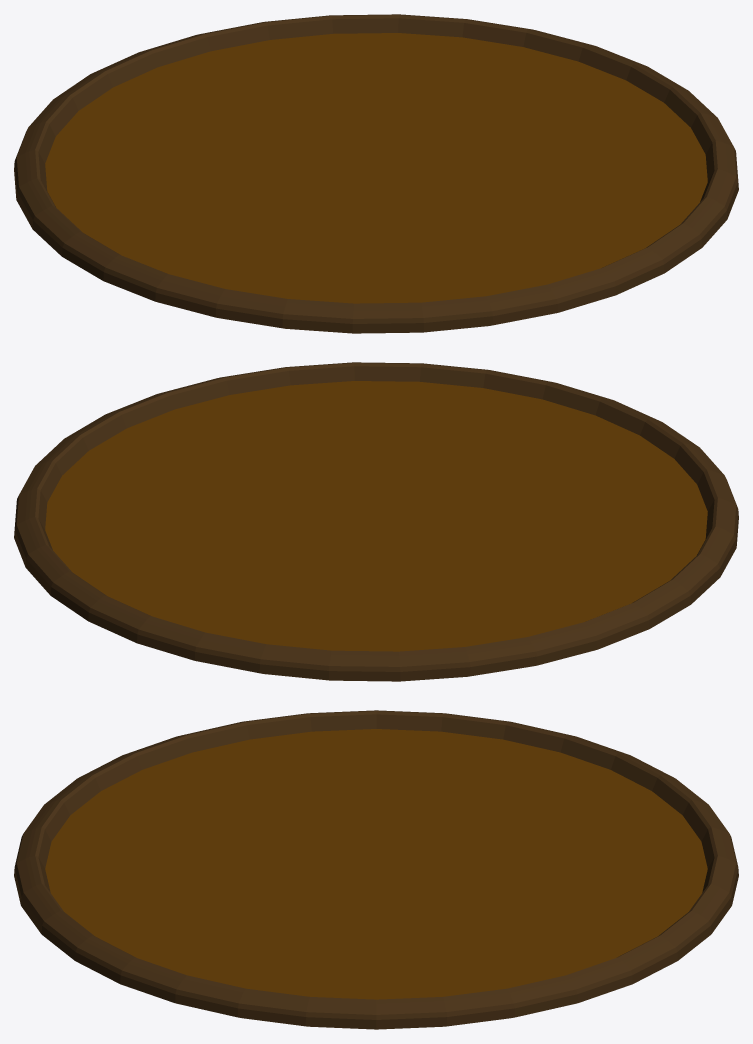
File: tepsi.fbx
The picture shows the model from 3 angles, top to bottom: view 1: azimuth 30°, elevation 25°; view 2: azimuth 150°, elevation 25°; view 3: azimuth 270°, elevation 25°; orthographic projection.
Parts seen in each view (by area): view 1: Cylinder.001; view 2: Cylinder.001; view 3: Cylinder.001.
Part boxes in pixels (x1=…): Cylinder.001: x1=14, y1=14, x2=738, y2=333; Cylinder.001: x1=14, y1=362, x2=738, y2=681; Cylinder.001: x1=14, y1=710, x2=738, y2=1029.
Bounding box in the file's own units: 50 × 2 × 50.
